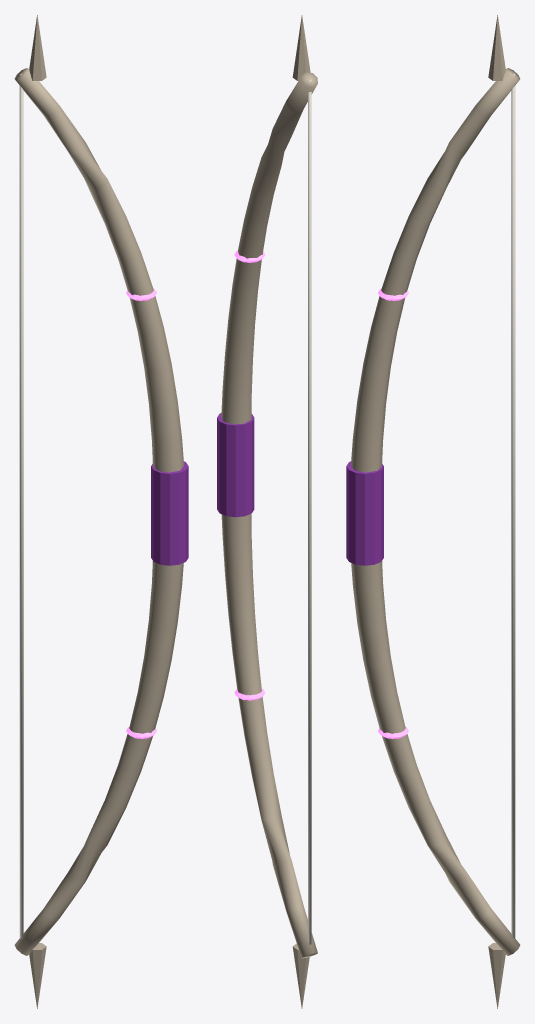
Rendered from BONEQUILL_bow.fbx.
3 views of the same model, side by side, from view 1: azimuth 90°, elevation 25°; view 2: azimuth 210°, elevation 25°; view 3: azimuth 270°, elevation 25° (orthographic).
Parts seen in each view (by area): view 1: BONEQUILL_bow; view 2: BONEQUILL_bow; view 3: BONEQUILL_bow.
Part boxes in pixels (x1,y1,x2,y2): BONEQUILL_bow: [14, 15, 188, 1008]; BONEQUILL_bow: [217, 15, 317, 1008]; BONEQUILL_bow: [346, 15, 520, 1008].
Bounding box in the file's own units: 0.048 × 1.41 × 0.2234.
